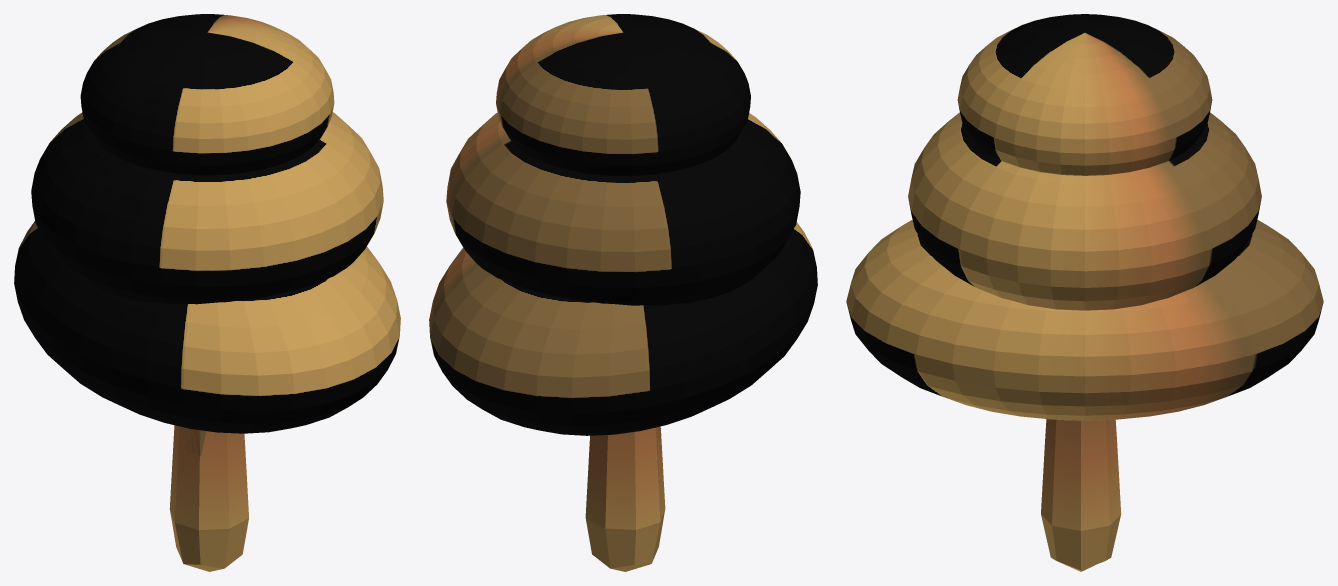
File: Arbol6.fbx
The picture shows the model from 3 angles, left to right: view 1: azimuth 30°, elevation 25°; view 2: azimuth 150°, elevation 25°; view 3: azimuth 270°, elevation 25°; orthographic projection.
Parts seen in each view (by area): view 1: Cube.002; view 2: Cube.002; view 3: Cube.002.
Part boxes in pixels (x1=…): Cube.002: x1=14, y1=14, x2=400, y2=571; Cube.002: x1=429, y1=14, x2=817, y2=571; Cube.002: x1=846, y1=14, x2=1323, y2=571.
Bounding box in the file's own units: 513 × 862 × 691.
Materials: 3 (3 with a texture image).
